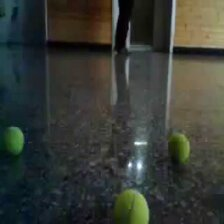tennis: (111, 189, 149, 224), (167, 133, 192, 165), (1, 125, 26, 156)
